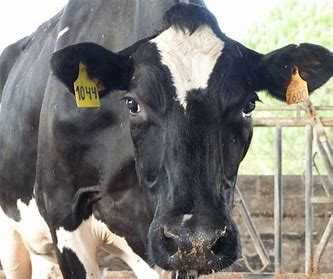waka: (4, 5, 330, 270)
